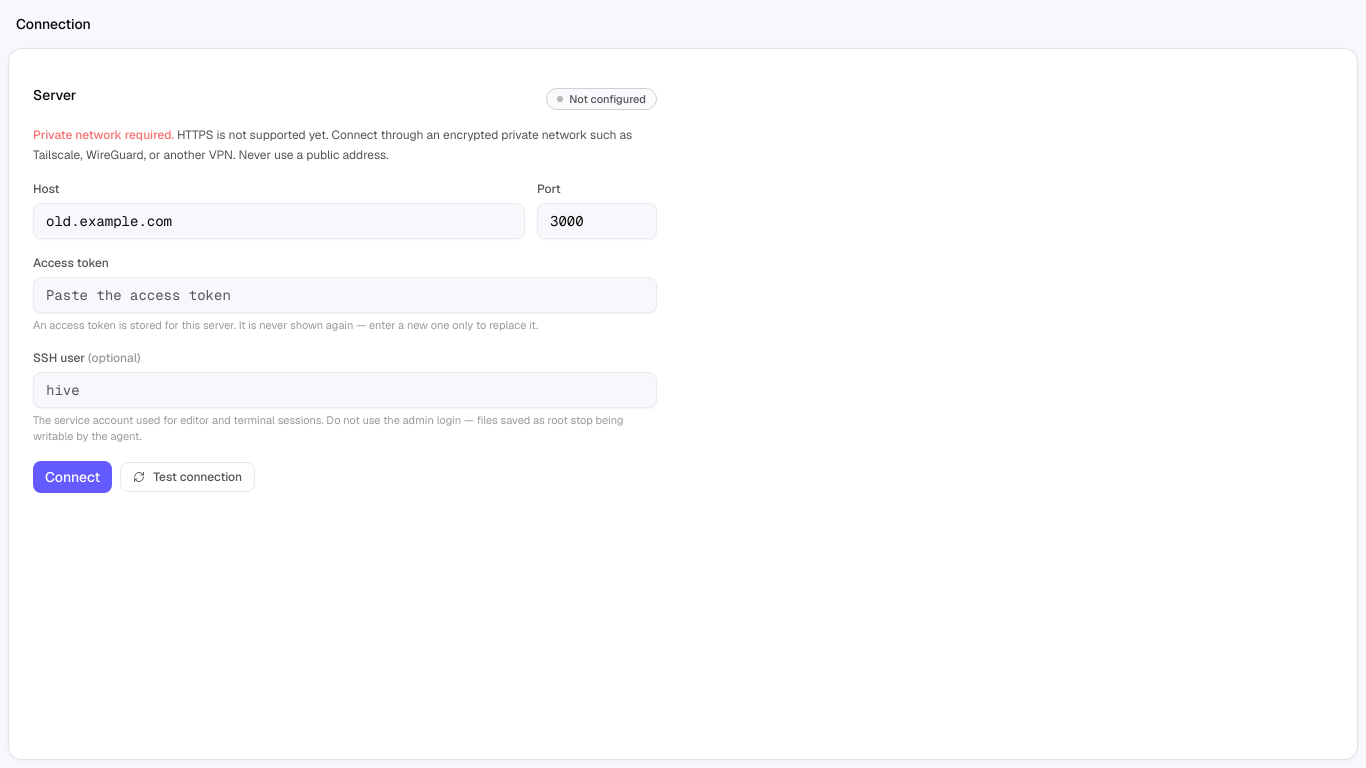
Test: ConnectionSettings › keeps the working connection when a new attempt is rejected
Replace the text in the field with placeholder "203.0.113.10" with "new.example.com" at point(279, 221), box [33,203,525,239]
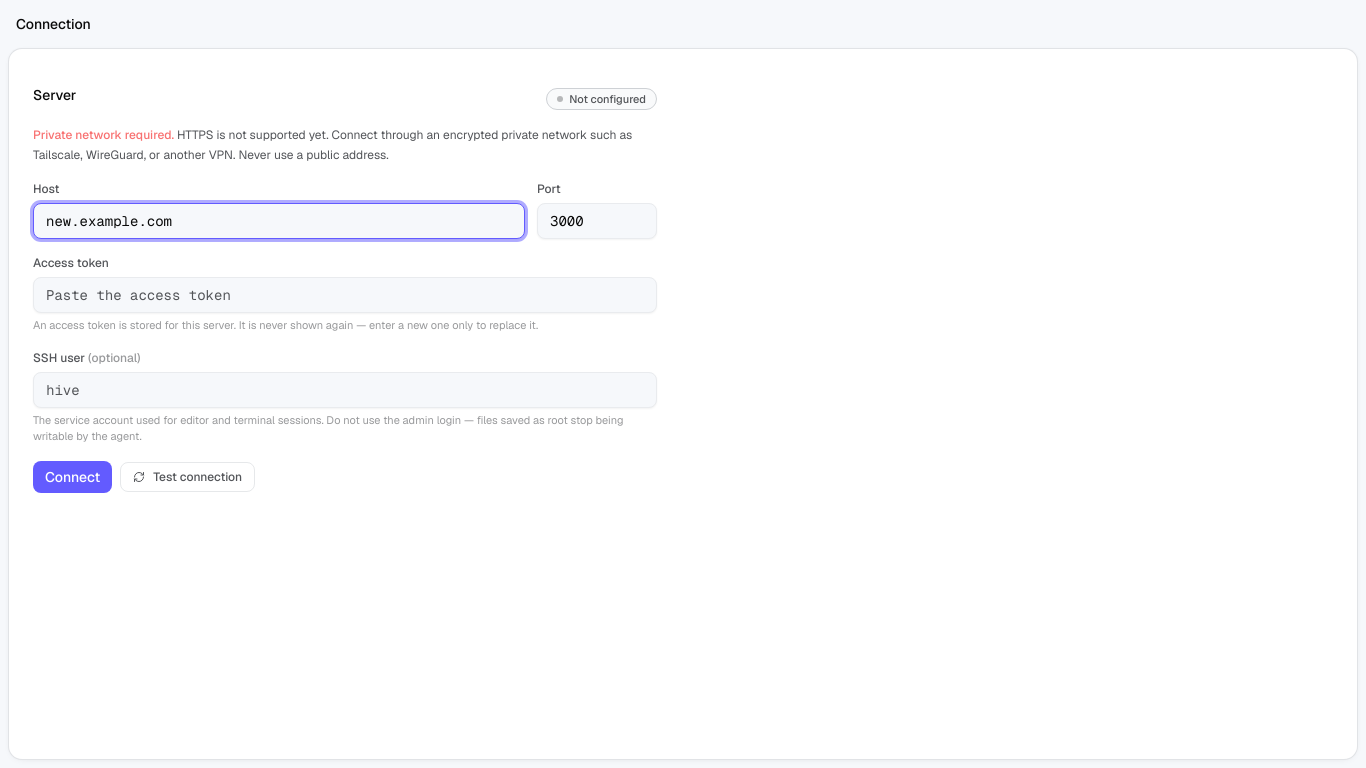
Click the button "Connect" at point(73, 477), box [33,461,112,493]
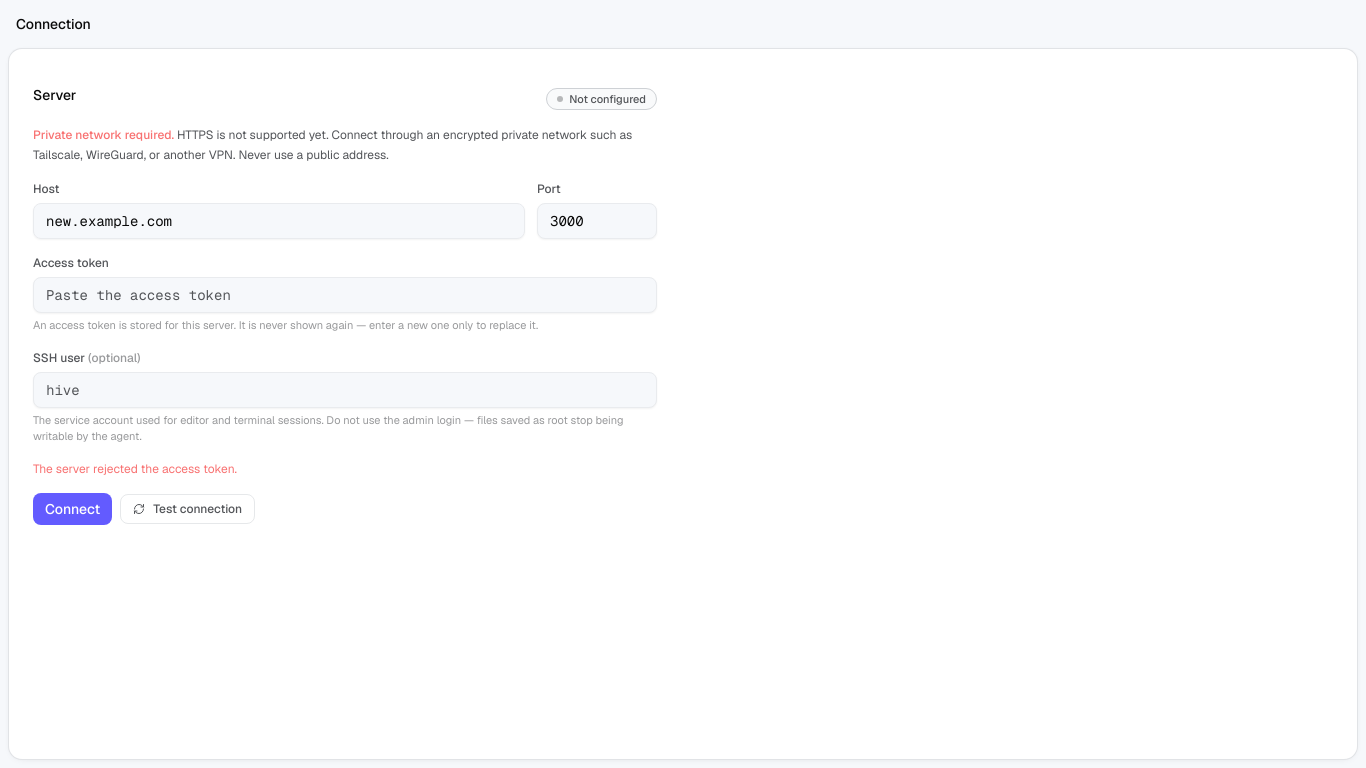
Now the text "The server rejected the access token." is shown, box [33,461,237,477]
